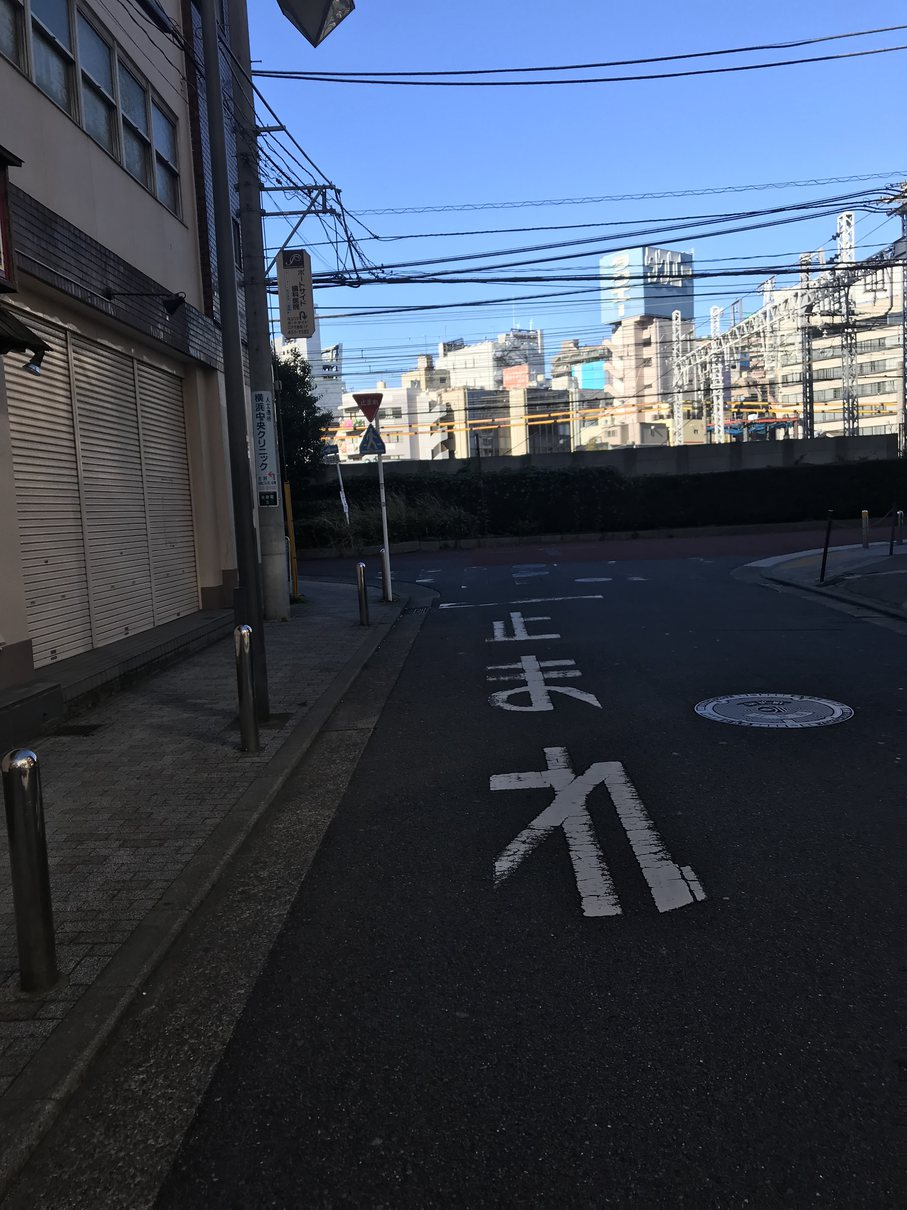stop_sign: (350, 390, 383, 423)
